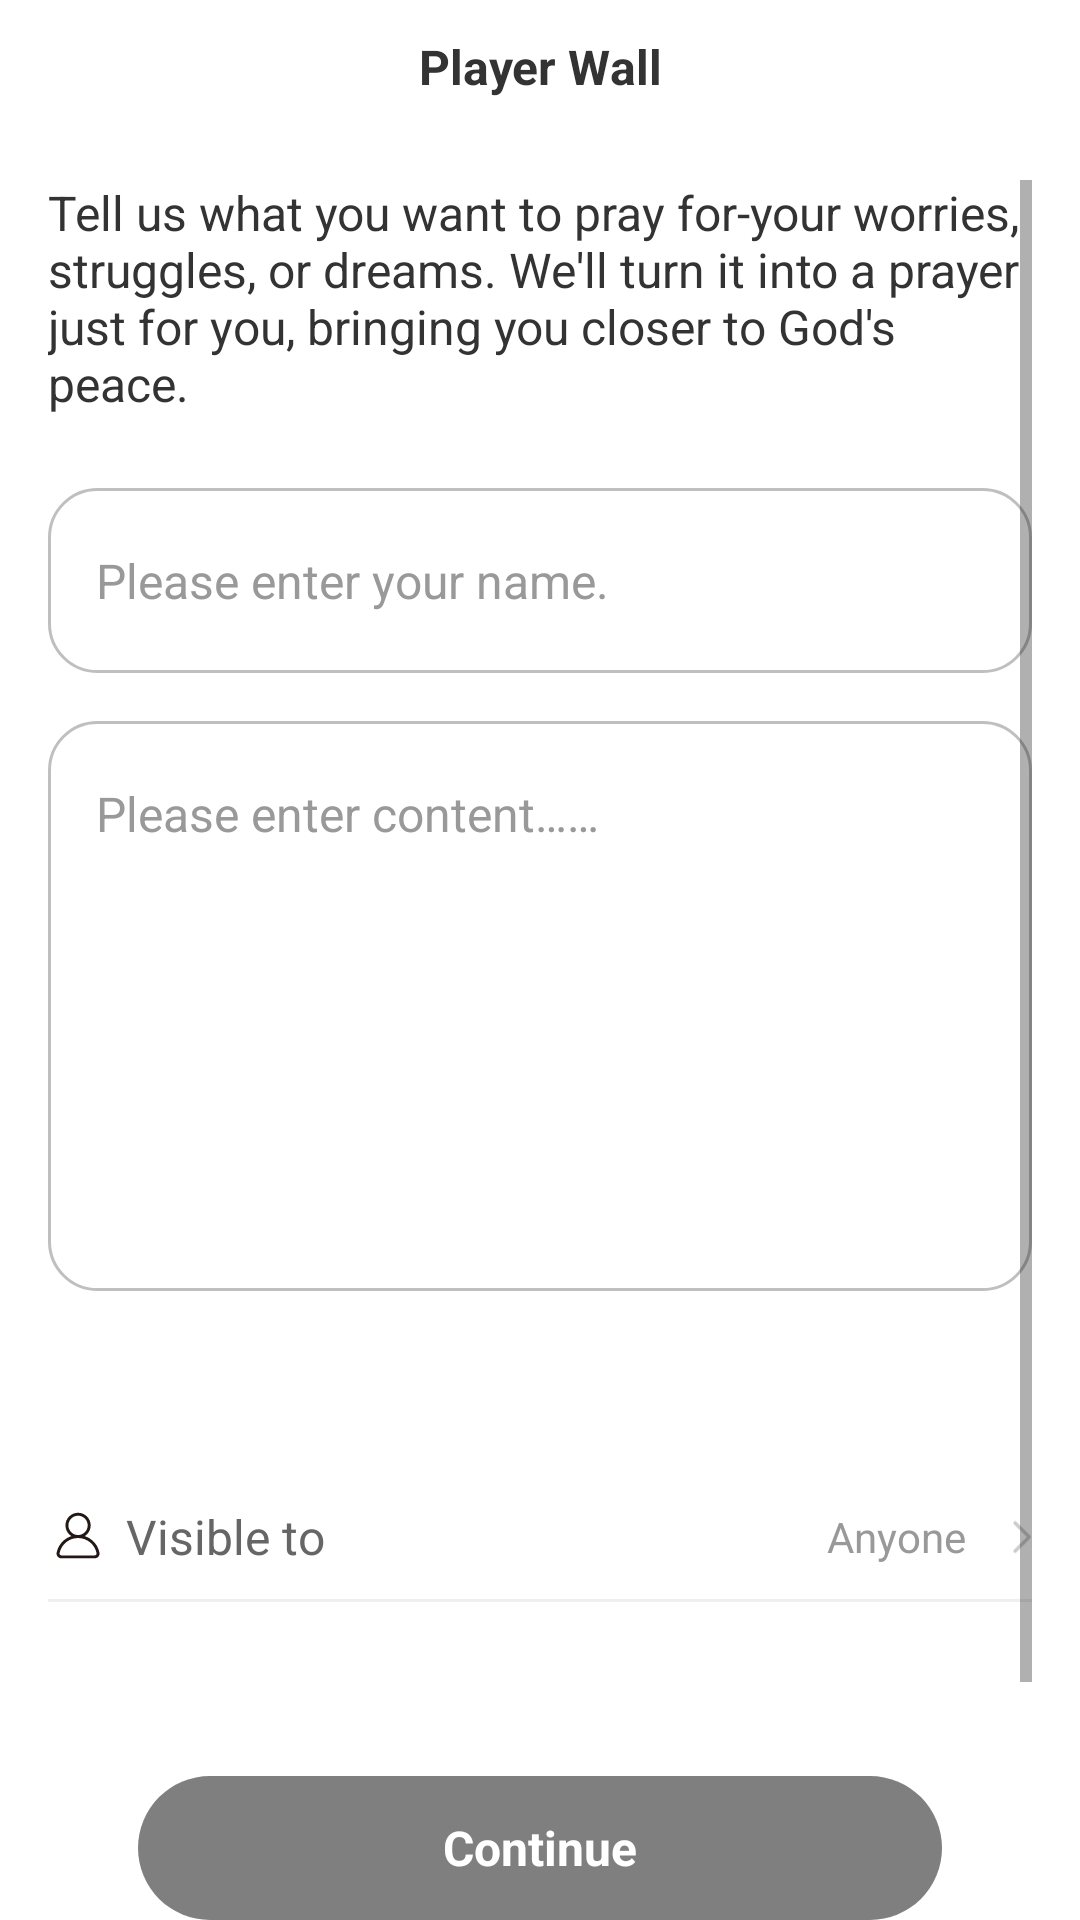

Named icons in this screenshot (1080x1920) and their bounding boxes, (x1, y1, x2, y2):
more: (1014, 1513, 1032, 1561)
user visible: (56, 1512, 100, 1559)
